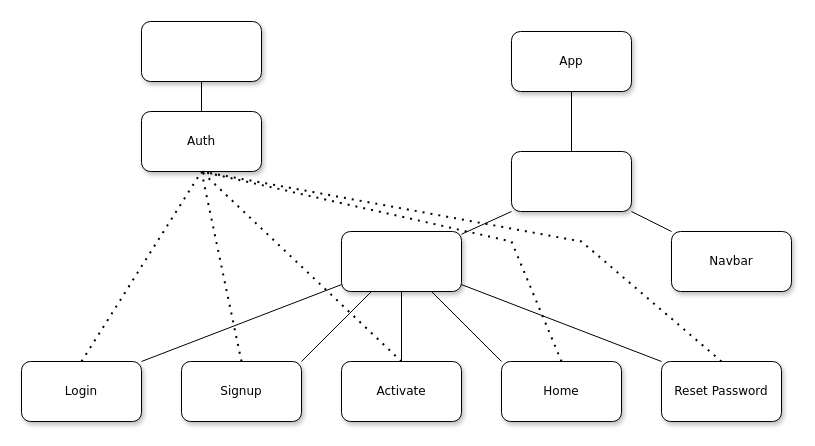
Image size: 815x446. Some labels were removed from this diagram. Here are the shapes that lost their labels. From the top down, the centre of each, then its label:
point (202, 52): Store
point (572, 182): Layout
point (402, 262): children
